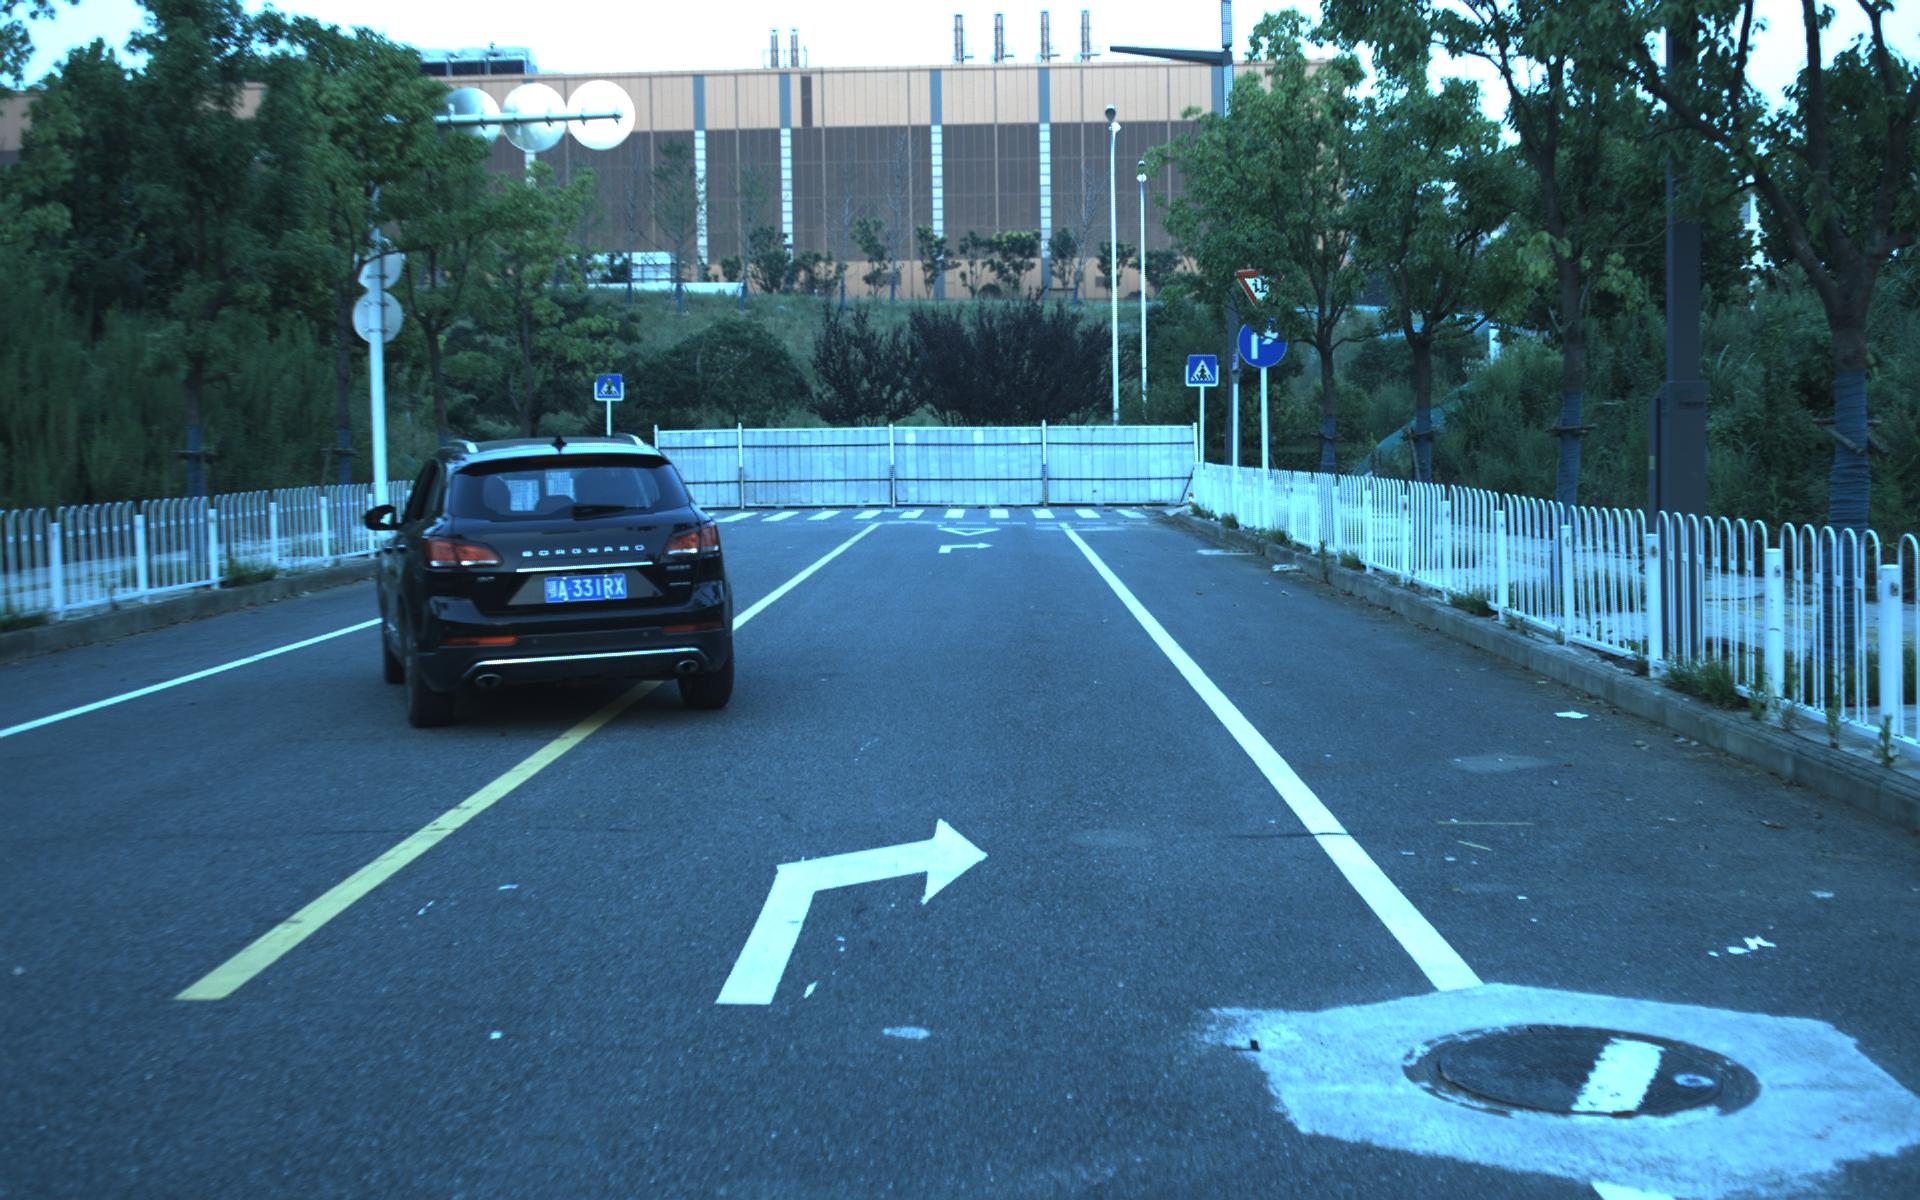Car: (370, 429, 746, 731)
